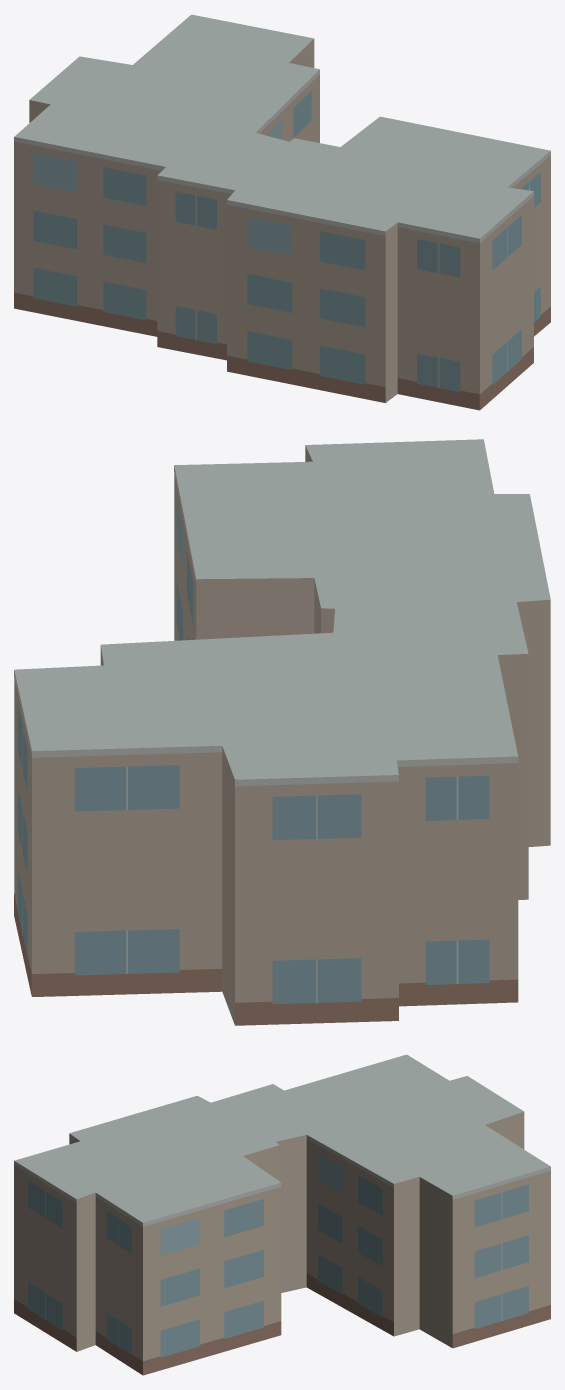
The model's file is survey-upis-32624760.glb.
3 renders of one model, top to bottom at view 1: azimuth 30°, elevation 25°; view 2: azimuth 150°, elevation 25°; view 3: azimuth 270°, elevation 25°, orthographic. The views are drawn at different scales.
Parts seen in each view (by area): view 1: survey-upis-32624760.tmp; view 2: survey-upis-32624760.tmp; view 3: survey-upis-32624760.tmp.
Part boxes in pixels (left/top/right/bottom): survey-upis-32624760.tmp: left=14, top=14, right=550, bottom=410; survey-upis-32624760.tmp: left=14, top=439, right=550, bottom=1025; survey-upis-32624760.tmp: left=14, top=1054, right=550, bottom=1375.
Size of the model in its own units: 21.68 by 9.15 by 29.19.
